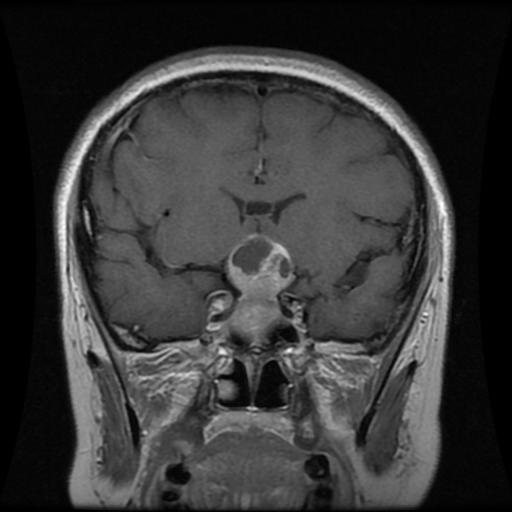Pituirity_tumour: (226, 231, 292, 332)
